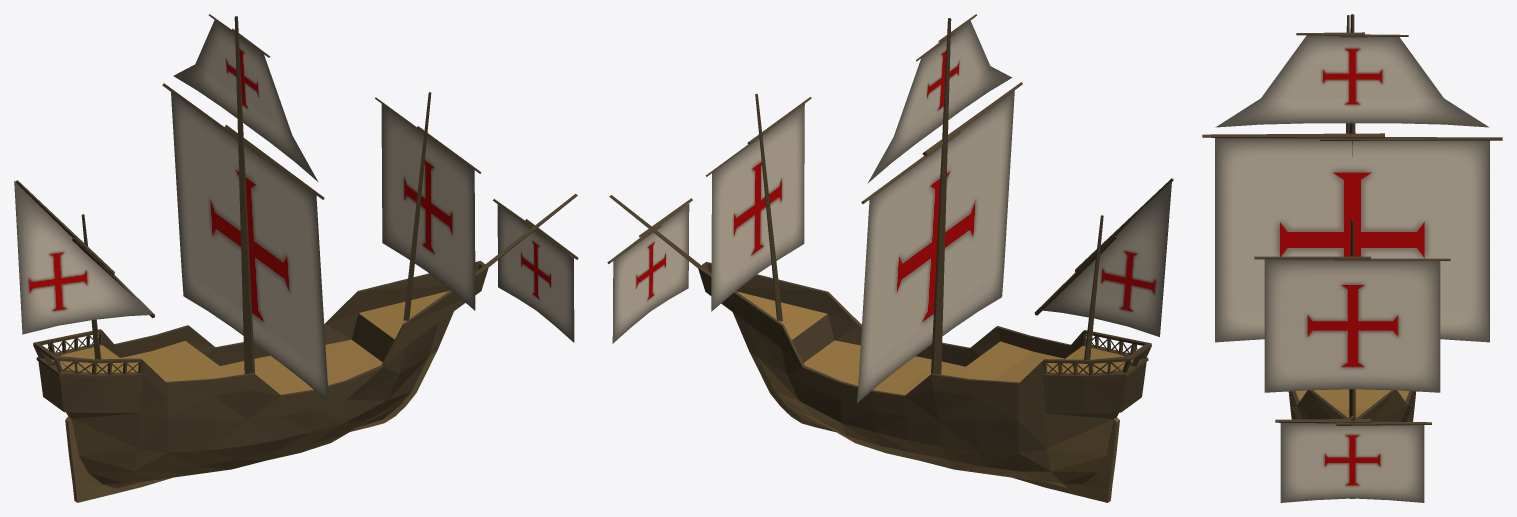
The model's file is carrack.castilian.glb.
3 views of the same model, side by side, from view 1: azimuth 30°, elevation 25°; view 2: azimuth 150°, elevation 25°; view 3: azimuth 270°, elevation 25° (orthographic). The views are drawn at different scales.
Visible parts, largest first — view 1: hull, sail-mainsail, sail-foresail, lateen, sail-topsail, spritsail, mast-main, maste-fore, holder-mainsail, holder-lateen; view 2: hull, sail-mainsail, sail-foresail, lateen, sail-topsail, spritsail, mast-main, maste-fore, holder-lateen, holder-mainsail, mast-mizzen; view 3: sail-mainsail, sail-foresail, sail-topsail, spritsail, hull, holder-mainsail, holder-spritsail, holder-foresail, holder-topsail, maste-fore.
Boxes of the visible parts, left/top/right/bottom form: hull: left=33, top=261, right=488, bottom=502; sail-mainsail: left=171, top=92, right=329, bottom=402; sail-foresail: left=381, top=104, right=475, bottom=310; lateen: left=14, top=181, right=153, bottom=334; sail-topsail: left=173, top=20, right=318, bottom=181; spritsail: left=497, top=204, right=574, bottom=342; mast-main: left=234, top=16, right=254, bottom=373; maste-fore: left=403, top=92, right=431, bottom=320; holder-mainsail: left=162, top=83, right=324, bottom=199; holder-lateen: left=16, top=180, right=155, bottom=317; hull: left=698, top=261, right=1151, bottom=502; sail-mainsail: left=857, top=90, right=1014, bottom=402; sail-foresail: left=711, top=103, right=804, bottom=311; lateen: left=1043, top=181, right=1171, bottom=336; sail-topsail: left=867, top=21, right=1012, bottom=183; spritsail: left=612, top=203, right=689, bottom=343; mast-main: left=931, top=18, right=951, bottom=374; maste-fore: left=755, top=93, right=782, bottom=321; holder-lateen: left=1034, top=178, right=1173, bottom=315; holder-mainsail: left=861, top=82, right=1022, bottom=203; mast-mizzen: left=1084, top=215, right=1103, bottom=359; sail-mainsail: left=1215, top=138, right=1489, bottom=342; sail-foresail: left=1264, top=259, right=1440, bottom=392; sail-topsail: left=1215, top=35, right=1489, bottom=127; spritsail: left=1280, top=423, right=1424, bottom=502; hull: left=1288, top=389, right=1416, bottom=498; holder-mainsail: left=1202, top=133, right=1502, bottom=140; holder-spritsail: left=1275, top=418, right=1431, bottom=425; holder-foresail: left=1254, top=256, right=1450, bottom=260; holder-topsail: left=1296, top=32, right=1408, bottom=37; maste-fore: left=1349, top=219, right=1355, bottom=417.
Bounding box in the file's own units: 2.97 × 2.24 × 1.45.
1 material, 1 textured.
